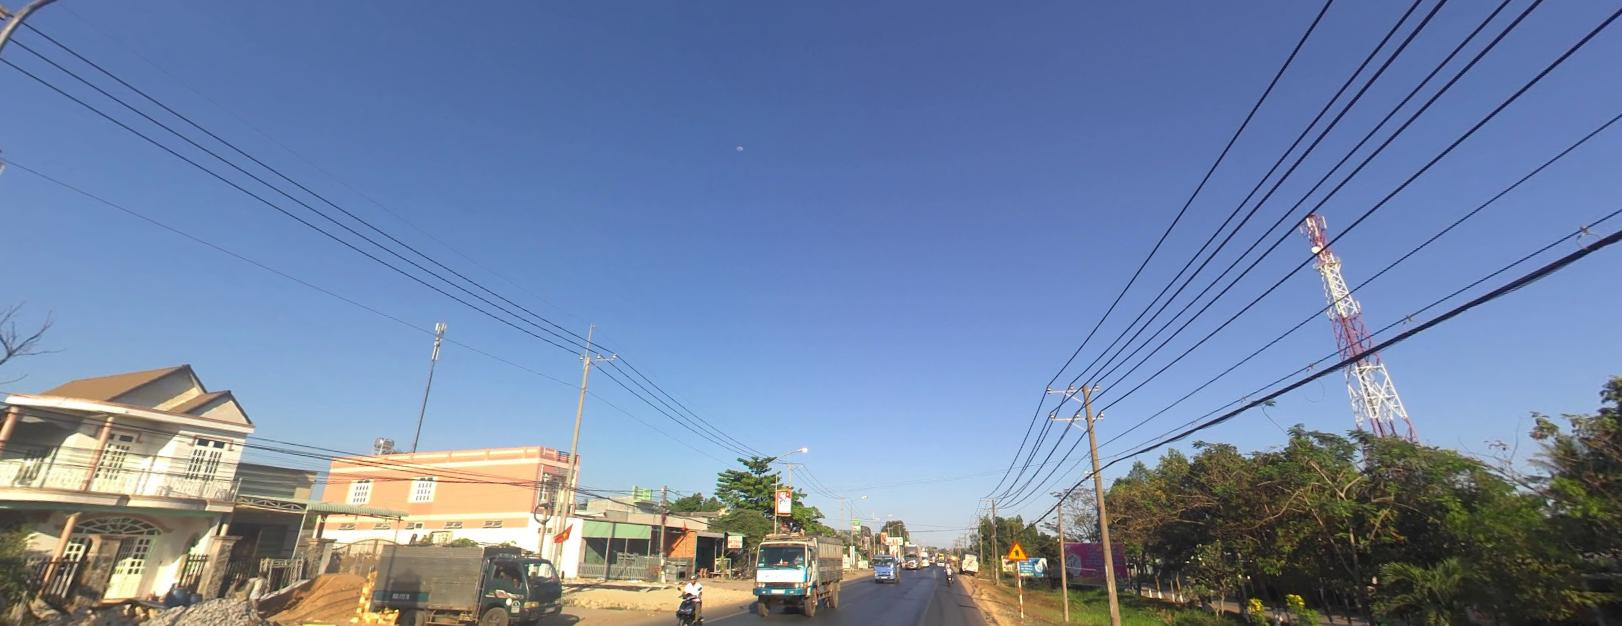Nguy hiem: (1007, 540, 1027, 559)
